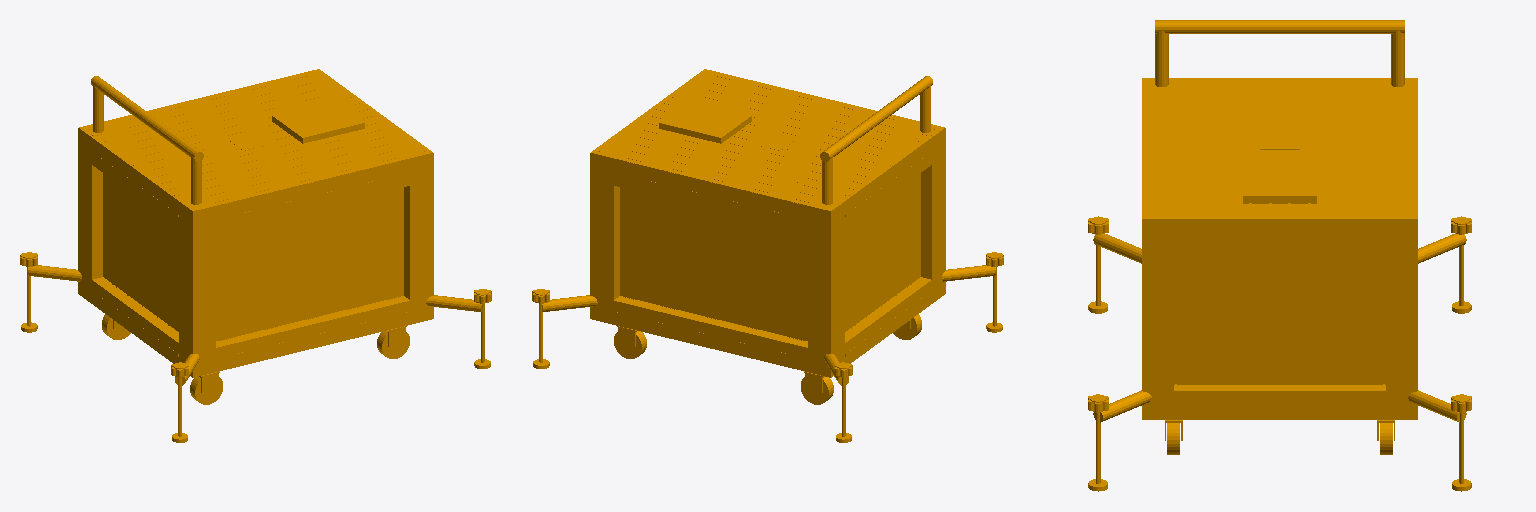
The robot description file, URDF, robot "sus_zfm_f401":
<?xml version="1.0"?>
<robot name="sus_zfm_f401">
<link name="base_link"><visual ><geometry ><mesh filename="../meshes/base_link.obj"/></geometry></visual><collision ><origin xyz="0 0 0.35" rpy="0 0 0"/><geometry ><box size="0.85 0.7 0.7"/></geometry></collision><collision ><origin xyz="0.22 0 0.71" rpy="0 0 0"/><geometry ><box size="0.22 0.19 0.02"/></geometry></collision><collision ><origin xyz="-0.384 0 0.789" rpy="0 0 0"/><geometry ><box size="0.04 0.64 0.178"/></geometry></collision><collision ><origin xyz="-0.494425 -0.419275 0.125" rpy="0 0 0"/><geometry ><box size="0.13885 0.13855 0.25"/></geometry></collision><collision ><origin xyz="-0.494425 0.419275 0.125" rpy="0 0 0"/><geometry ><box size="0.13885 0.13855 0.25"/></geometry></collision><collision ><origin xyz="0.494425 -0.419275 0.125" rpy="0 0 0"/><geometry ><box size="0.13885 0.13855 0.25"/></geometry></collision><collision ><origin xyz="0.494425 0.419275 0.125" rpy="0 0 0"/><geometry ><box size="0.13885 0.13855 0.25"/></geometry></collision></link>
<link name="mount"></link>
<link name="robot_mount"></link>
<joint name="mount_joint" type="fixed"><parent link="base_link"/><child link="mount"/><origin xyz="0 0 0" rpy="0 0 0"/></joint>
<joint name="robot_mount_joint" type="fixed"><parent link="base_link"/><child link="robot_mount"/><origin xyz="0.22 0 0.72" rpy="0 0 0"/></joint>
</robot>

--- Render facts (derived) ---
Views: 3 orthographic renders of the robot side by side, from view 1: azimuth 30°, elevation 25°; view 2: azimuth 150°, elevation 25°; view 3: azimuth 270°, elevation 25°.
Robot: sus_zfm_f401 — 3 links, 2 joints (2 fixed); root link base_link; default pose: all joints at 0.
Visible links, largest first — view 1: base_link; view 2: base_link; view 3: base_link.
Link boxes in pixels (x1,y1,x2,y2): base_link: [20, 69, 491, 442]; base_link: [532, 69, 1003, 442]; base_link: [1088, 20, 1471, 491].
Bounding box of the posed robot: 1.13 × 0.9771 × 0.878 m (x, y, z).
Meshes: 1 distinct files referenced, 1 mesh visuals loaded (1 OBJ).
